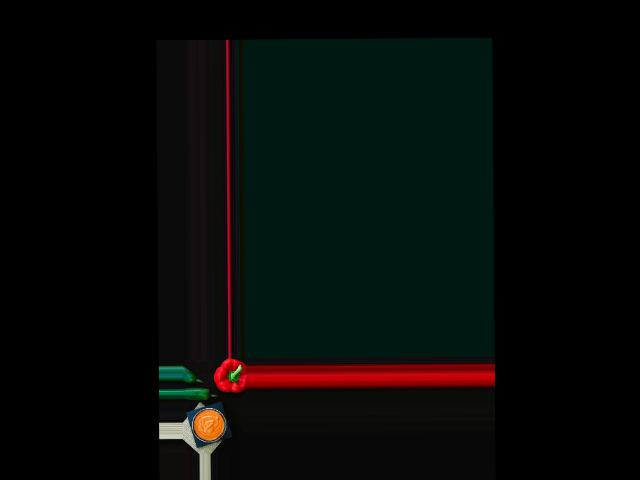bell_pepper: (214, 359, 245, 393)
